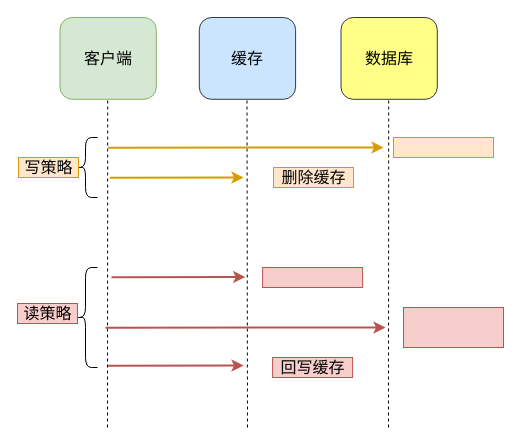
Image size: 521x446. Some labels were removed from this diagram. The centre of each missing label's shape, as x and y in pixels:
"更新数据库" belongs at pixel 443 147.
"缓存未命中" belongs at pixel 312 277.
"读取数据库 的数据" belongs at pixel 453 327.
